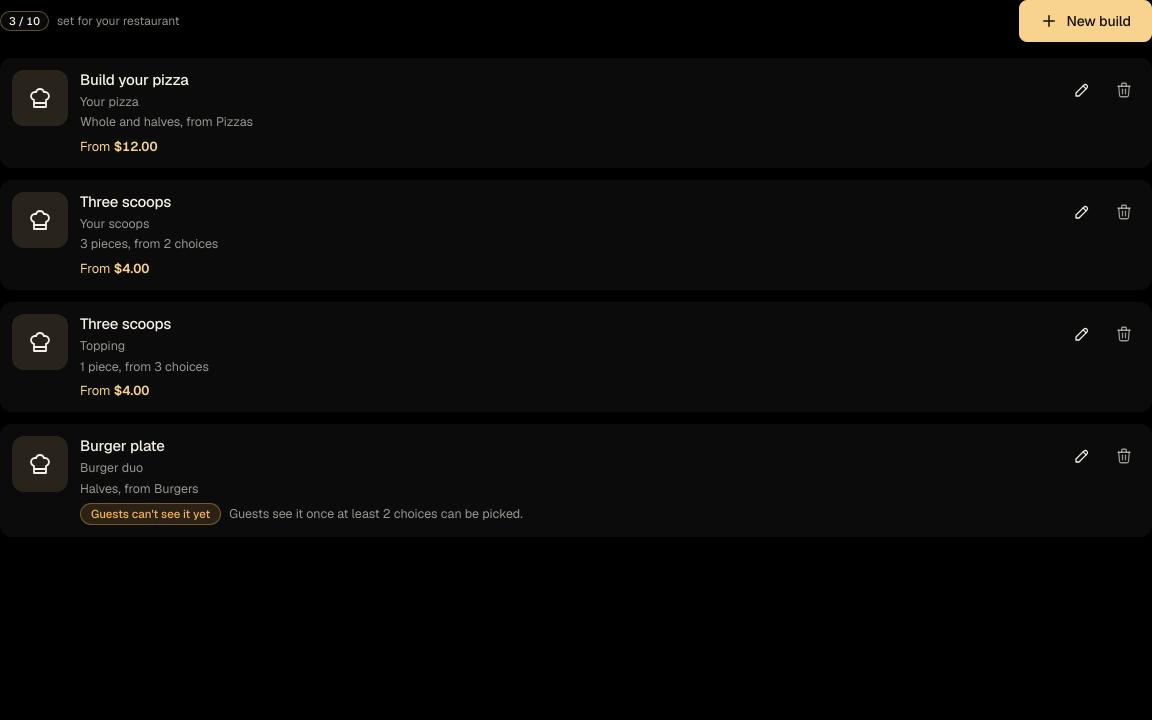
Test: BuildYourOwnPage › deletes a build by saving its dish’s others as they are
The width and height of the screenshot is (1152, 720).
Click the button named "Delete Your scoops on Three scoops" at (1124, 212), box [1104,192,1144,232]
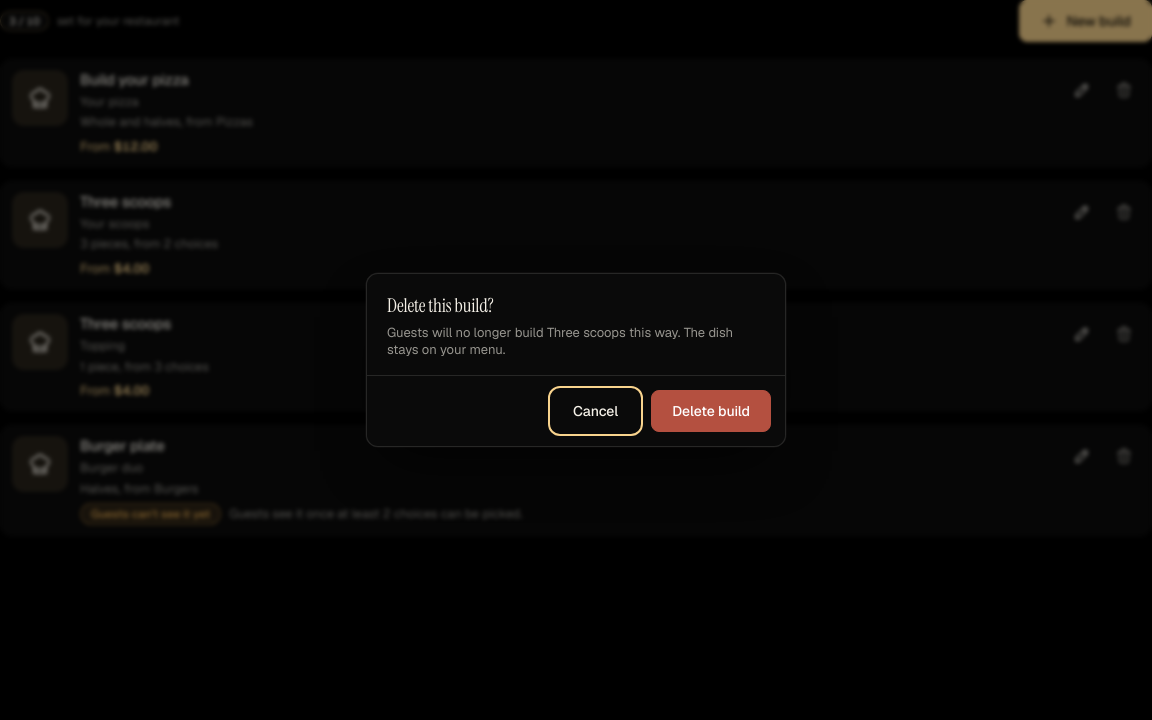
expect the dialog shows "Guests will no longer build Three scoops this way.": met, box [387,324,733,358]
Click the button "Delete build" at (711, 411), box [651,390,771,432]
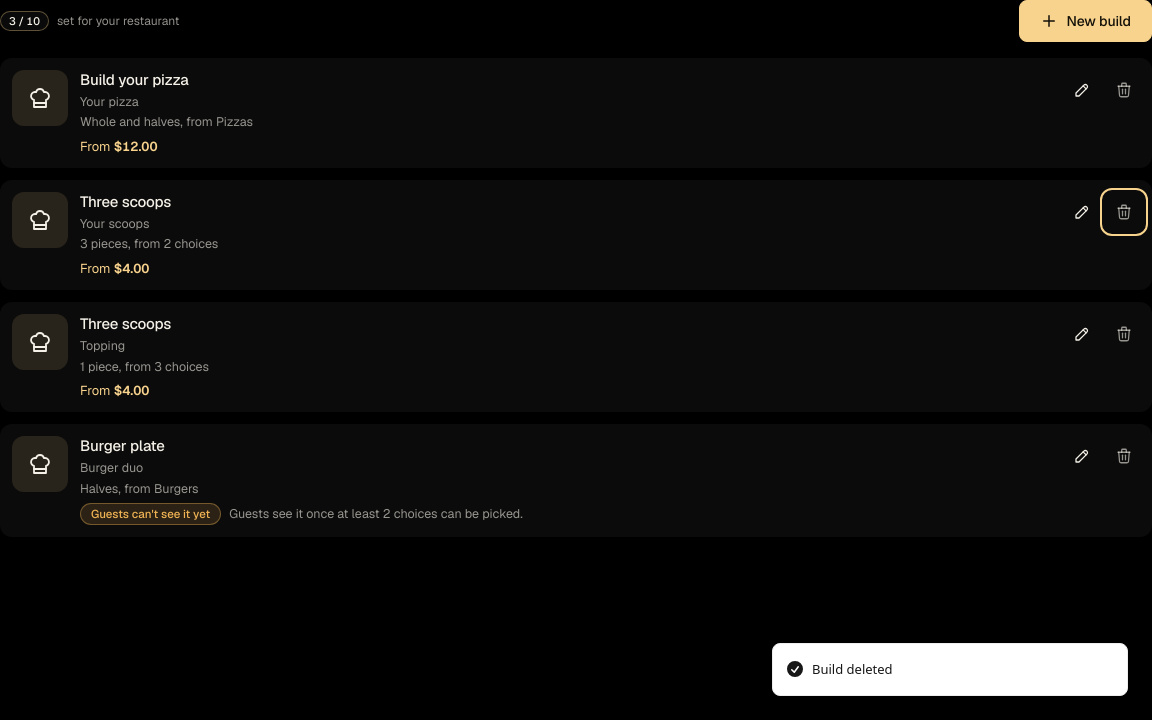
expect the text "Build deleted" is shown: met, box [812,660,893,679]
expect the dialog is gone: met
